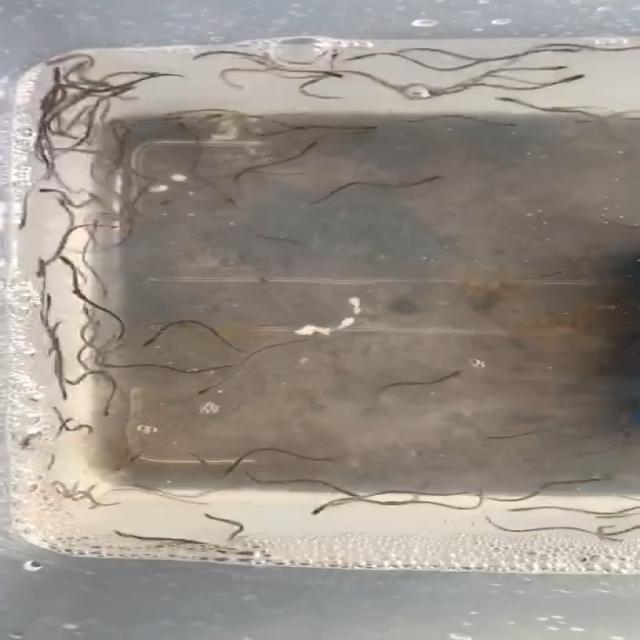inactive_glass_eel: (105, 530, 162, 550), (56, 482, 98, 505), (492, 92, 540, 110), (188, 377, 227, 399), (20, 262, 58, 279), (312, 64, 347, 82), (438, 364, 473, 382), (556, 72, 596, 86), (299, 499, 330, 517), (29, 256, 52, 280), (218, 193, 249, 210), (136, 336, 167, 353), (194, 506, 223, 524), (356, 118, 386, 135), (54, 385, 77, 407), (392, 44, 434, 56), (340, 55, 384, 66), (424, 170, 456, 185), (289, 136, 329, 148), (34, 292, 63, 308), (43, 63, 66, 83), (82, 188, 107, 206), (543, 60, 575, 74), (193, 52, 236, 62), (212, 468, 238, 484), (586, 514, 632, 523), (482, 518, 511, 532), (579, 475, 610, 488), (545, 103, 573, 117), (38, 53, 68, 66), (101, 498, 133, 510), (54, 254, 80, 268), (100, 404, 120, 422), (69, 286, 94, 300), (174, 118, 197, 133), (157, 194, 175, 213), (498, 116, 522, 130), (570, 114, 594, 128), (54, 192, 73, 208), (84, 216, 104, 230), (508, 505, 536, 515), (30, 187, 60, 196), (206, 113, 231, 122)
